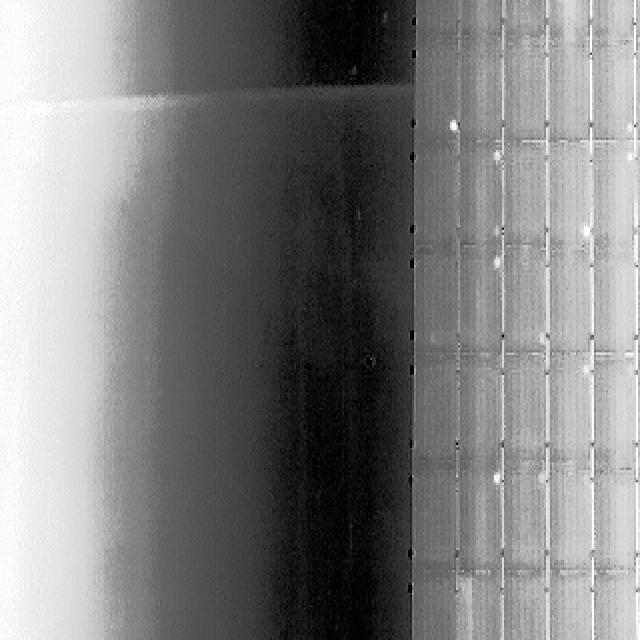Hotspots: (438, 116, 457, 140), (575, 221, 591, 244), (575, 357, 591, 379), (534, 330, 551, 350), (619, 146, 636, 162), (488, 256, 506, 271), (534, 470, 548, 488), (490, 224, 503, 243), (490, 473, 504, 488), (491, 152, 503, 166), (625, 122, 636, 136)
PV-modules: (456, 358, 504, 472), (546, 356, 593, 470), (457, 34, 504, 147), (587, 143, 634, 254), (460, 246, 507, 356), (501, 356, 546, 470), (412, 465, 459, 574), (593, 358, 638, 470), (499, 146, 547, 251), (546, 31, 592, 140), (413, 149, 461, 253), (413, 249, 460, 355), (547, 248, 593, 356), (501, 244, 546, 354), (545, 468, 592, 573), (502, 32, 546, 144), (412, 357, 458, 463), (547, 140, 592, 248), (459, 474, 506, 577), (588, 36, 633, 142), (593, 251, 639, 354), (505, 467, 549, 573), (460, 150, 506, 251), (594, 472, 638, 576), (414, 62, 458, 142), (544, 572, 592, 640), (412, 572, 460, 640), (592, 572, 640, 640), (500, 572, 546, 640), (458, 572, 504, 640), (464, 0, 547, 37), (412, 0, 470, 38), (544, 0, 591, 38), (588, 0, 632, 39), (461, 0, 506, 37), (504, 0, 548, 35), (630, 38, 640, 142), (632, 352, 640, 462), (632, 250, 640, 358), (634, 462, 640, 570), (630, 0, 640, 38), (636, 572, 640, 640), (638, 138, 640, 250)
